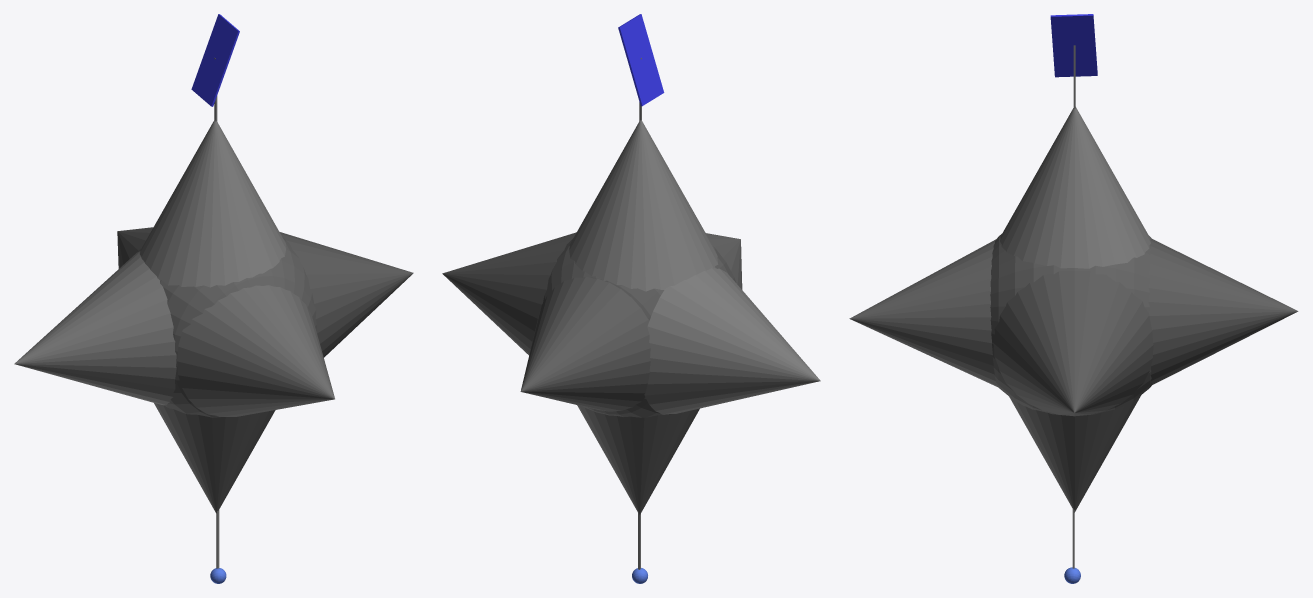
The model's file is satellite10.glb.
The picture shows the model from 3 angles, left to right: view 1: azimuth 30°, elevation 25°; view 2: azimuth 150°, elevation 25°; view 3: azimuth 270°, elevation 25°; orthographic projection. The views are drawn at different scales.
Visible parts, largest first — view 1: Cone.001, Cone, Cone.005, Cone.004, Cone.003, Sphere, Cube.002, Cone.002; view 2: Cone.005, Cone, Cone.002, Cone.004, Cone.003, Sphere, Cube.002, Cone.001; view 3: Cone.004, Cone, Cone.002, Cone.001, Cone.003, Sphere, Cube.002.
Part boxes in pixels (x1,y1,x2,y2): Cone.001: (177,285,334,416); Cone: (139,119,286,287); Cone.005: (14,251,176,405); Cone.004: (279,232,413,357); Cone.003: (154,403,275,513); Sphere: (138,237,316,417); Cube.002: (191,14,239,106); Cone.002: (117,227,153,268); Cone.005: (644,268,820,414); Cone: (569,120,718,291); Cone.002: (520,277,650,411); Cone.004: (442,232,576,355); Cone.003: (577,405,699,514); Sphere: (543,239,736,417); Cube.002: (618,14,664,106); Cone.001: (706,233,742,289); Cone.004: (993,271,1153,416); Cone: (1000,107,1150,268); Cone.002: (1148,239,1298,384); Cone.001: (849,239,997,386); Cone.003: (1009,395,1140,512); Sphere: (990,234,1152,414); Cube.002: (1050,14,1097,77).
Size of the model in its own units: 4.3 by 5.91 by 4.19.
